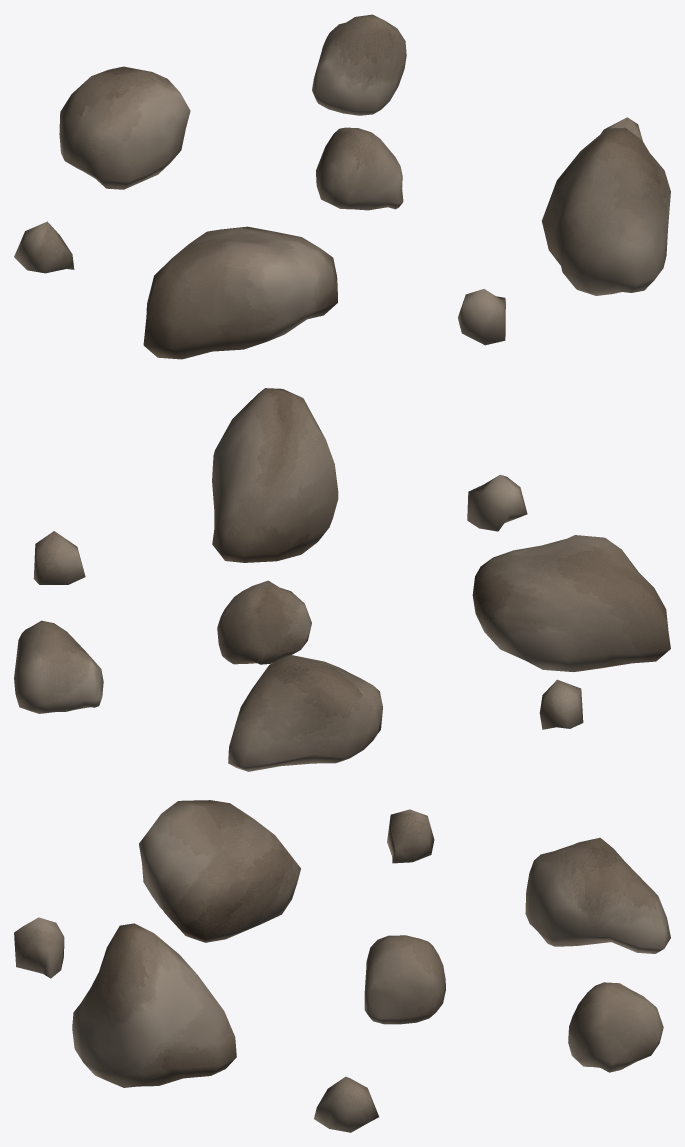
Rendered from pebbles for terrain painting 3.fbx.
3 views of the same model, one above another, from view 1: azimuth 30°, elevation 25°; view 2: azimuth 150°, elevation 25°; view 3: azimuth 270°, elevation 25° (orthographic). The views are drawn at different scales.
Visible parts, largest first — view 1: polySurface11; view 2: polySurface11; view 3: polySurface11.
Part boxes in pixels (<box>): polySurface11: <box>14,14,670,359</box>; polySurface11: <box>14,388,670,771</box>; polySurface11: <box>14,800,670,1132</box>.
Size of the model in its own units: 23.3 by 6.08 by 22.98.
